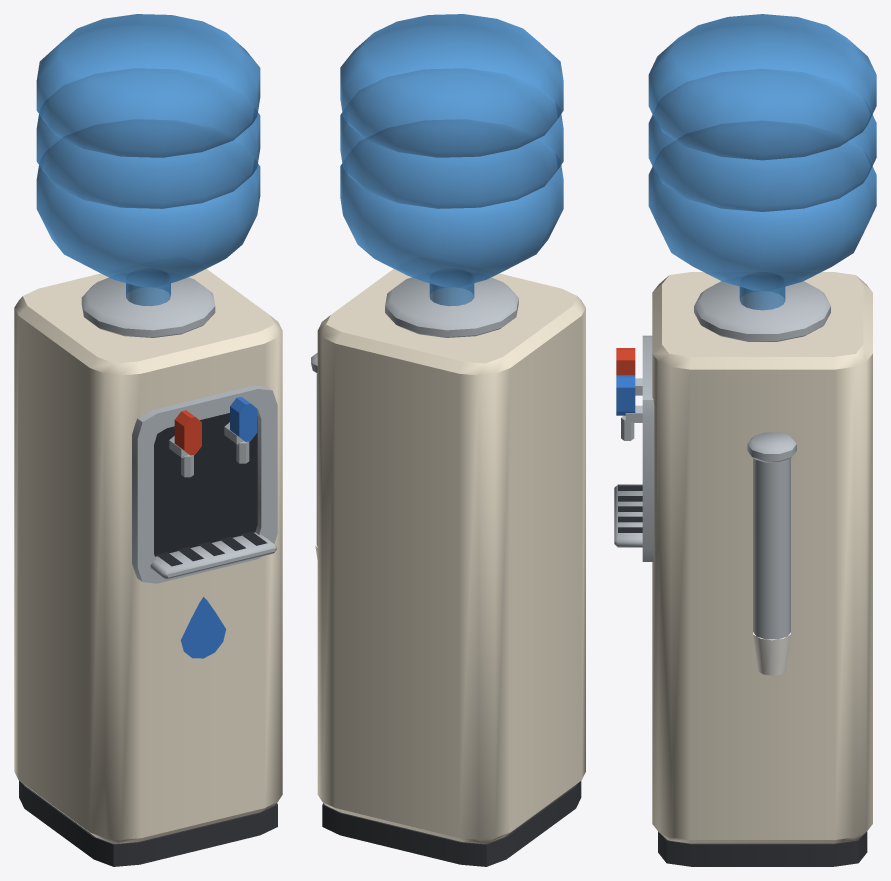
File: Lobby_WaterCooler.fbx
3 renders of one model, left to right at view 1: azimuth 30°, elevation 25°; view 2: azimuth 150°, elevation 25°; view 3: azimuth 270°, elevation 25°, orthographic.
Parts seen in each view (by area): view 1: Cabinet, Jug, Steel, Recess, Base, DropBadge, TapHot, TapCold, TraySlots; view 2: Cabinet, Jug, Steel, Base; view 3: Cabinet, Jug, Steel, Base, Cup, TapCold, TraySlots, TapHot.
Boxes of the visible parts, x1=… form: Cabinet: x1=14, y1=269, x2=282, y2=843; Jug: x1=36, y1=14, x2=260, y2=306; Steel: x1=81, y1=277, x2=277, y2=583; Recess: x1=154, y1=413, x2=257, y2=556; Base: x1=19, y1=781, x2=277, y2=866; DropBadge: x1=180, y1=597, x2=226, y2=658; TapHot: x1=174, y1=410, x2=201, y2=455; TapCold: x1=230, y1=396, x2=257, y2=441; TraySlots: x1=156, y1=531, x2=267, y2=566; Cabinet: x1=317, y1=269, x2=585, y2=843; Jug: x1=340, y1=14, x2=563, y2=306; Steel: x1=311, y1=277, x2=518, y2=546; Base: x1=322, y1=781, x2=581, y2=866; Cabinet: x1=652, y1=272, x2=872, y2=843; Jug: x1=648, y1=14, x2=876, y2=310; Steel: x1=614, y1=281, x2=830, y2=640; Base: x1=658, y1=831, x2=867, y2=866; Cup: x1=753, y1=632, x2=790, y2=675; TapCold: x1=616, y1=375, x2=635, y2=415; TraySlots: x1=618, y1=485, x2=642, y2=532; TapHot: x1=616, y1=348, x2=635, y2=375.
Bounding box in the file's own units: 141 × 450 × 138.
